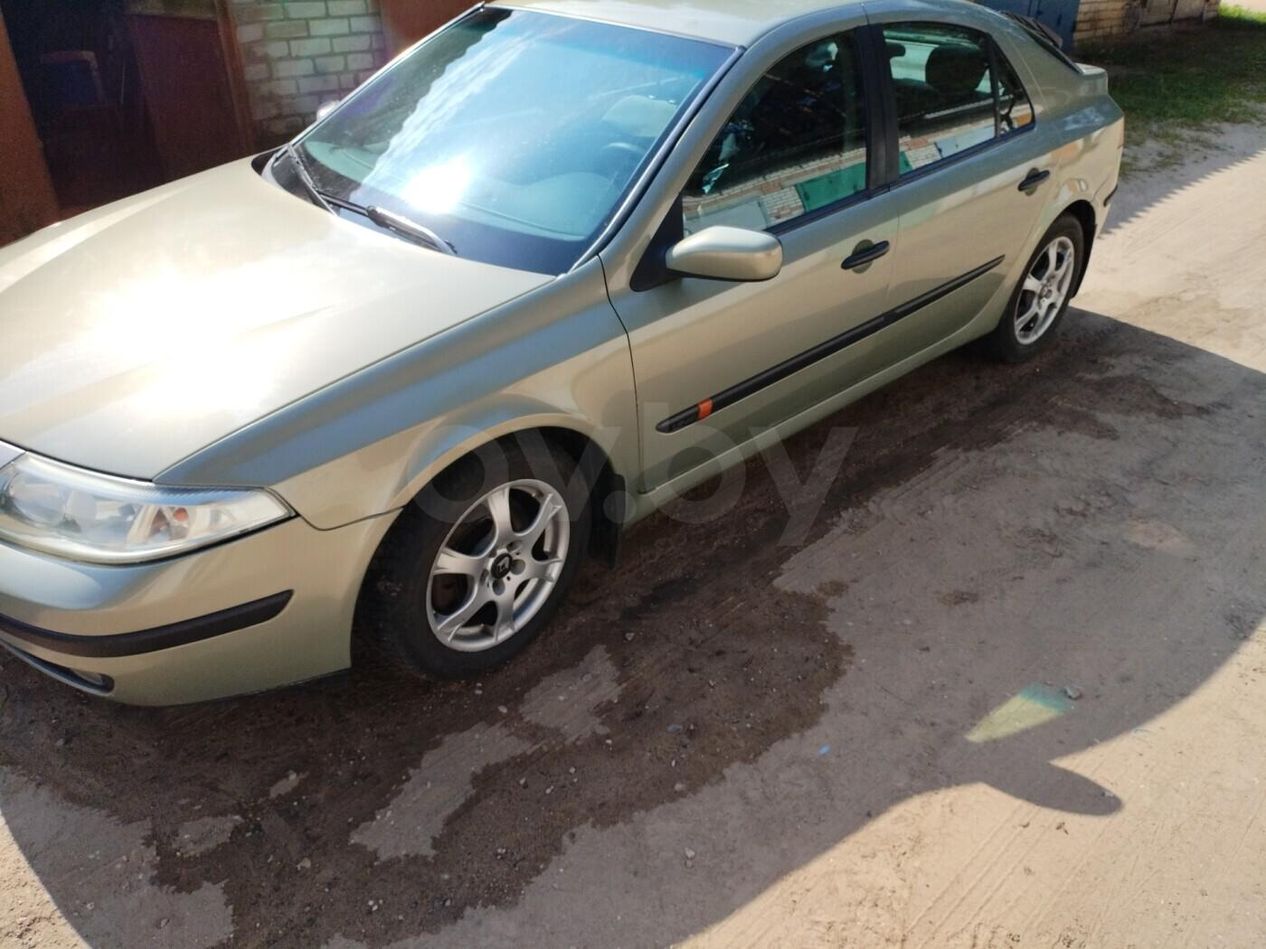Laguna_2001-2005: (0, 0, 1123, 703)
